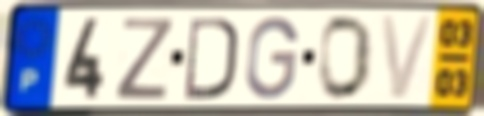4: (60, 15, 107, 102)
D: (183, 14, 240, 103)
G: (242, 14, 302, 102)
O: (317, 13, 375, 103)
V: (378, 13, 438, 102)
Z: (112, 15, 177, 102)
